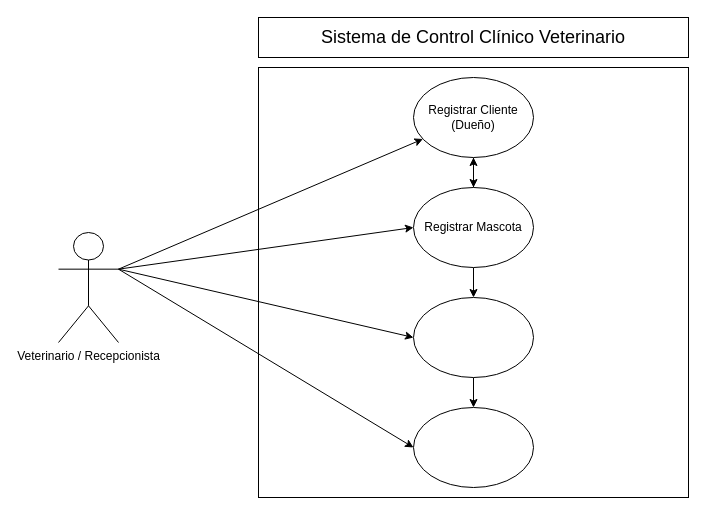
This 706x515 diagram has some shape labels left out. The box of each missing label's shape, as (x1, y1, x2, y2) in pixels:
Registrar Consulta Médica: (412, 296, 534, 378)
Ver Historial Médico: (412, 406, 534, 488)
